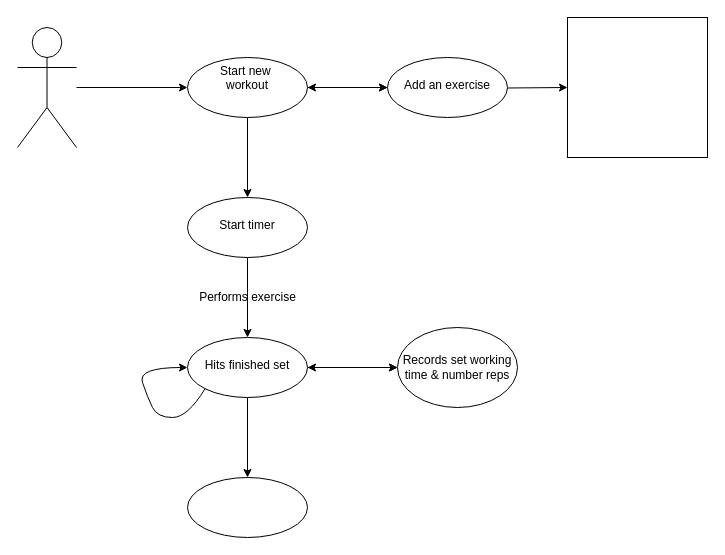
This 725x555 diagram has some shape labels left out. Each missing label, with the box of its shape:
End workout: (186, 476, 308, 538)
Gym Rat: (16, 26, 76, 148)
Select: Exercise Number of sets Number of reps per set Target work time band: (566, 16, 708, 158)
